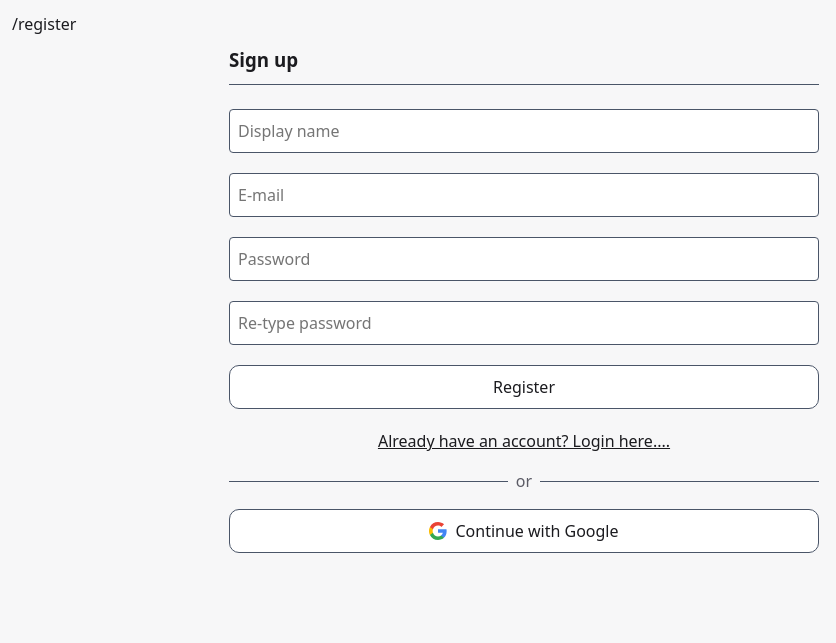
it: RegisterPage › shows password-policy violations on blur, one per line, and gates submit
In the password field labelled "Password": (524, 259) [229,237,819,281], type "short"
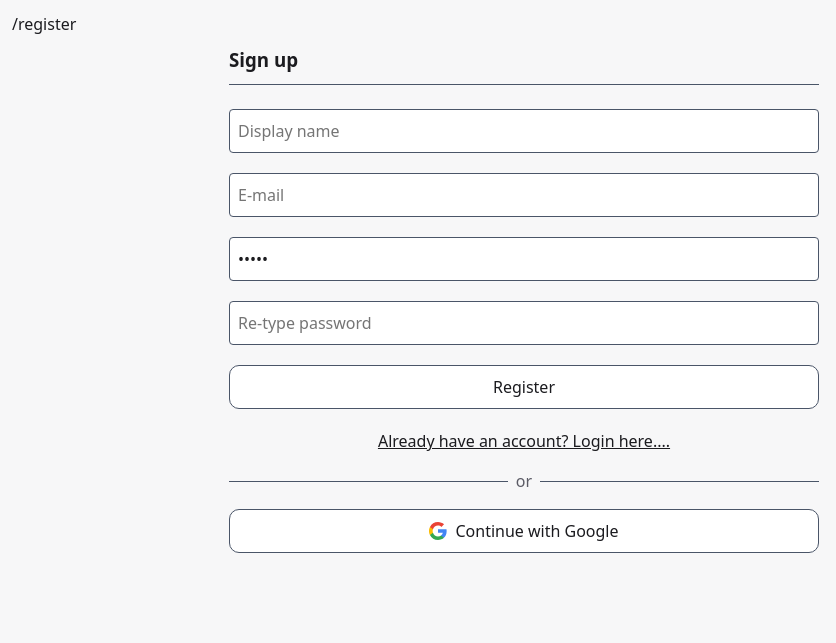
Leave the password field named "Password", box [229,237,819,281]
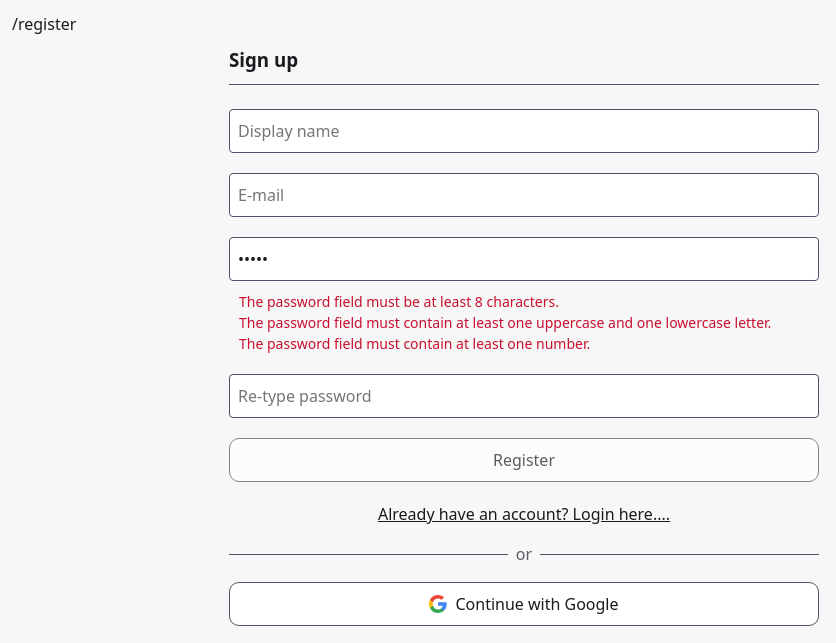
Now the text "must be at least 8 characters" shows "must contain at least one number", box [239,292,771,353]
Now the button "Register" is disabled, box [229,438,819,482]
